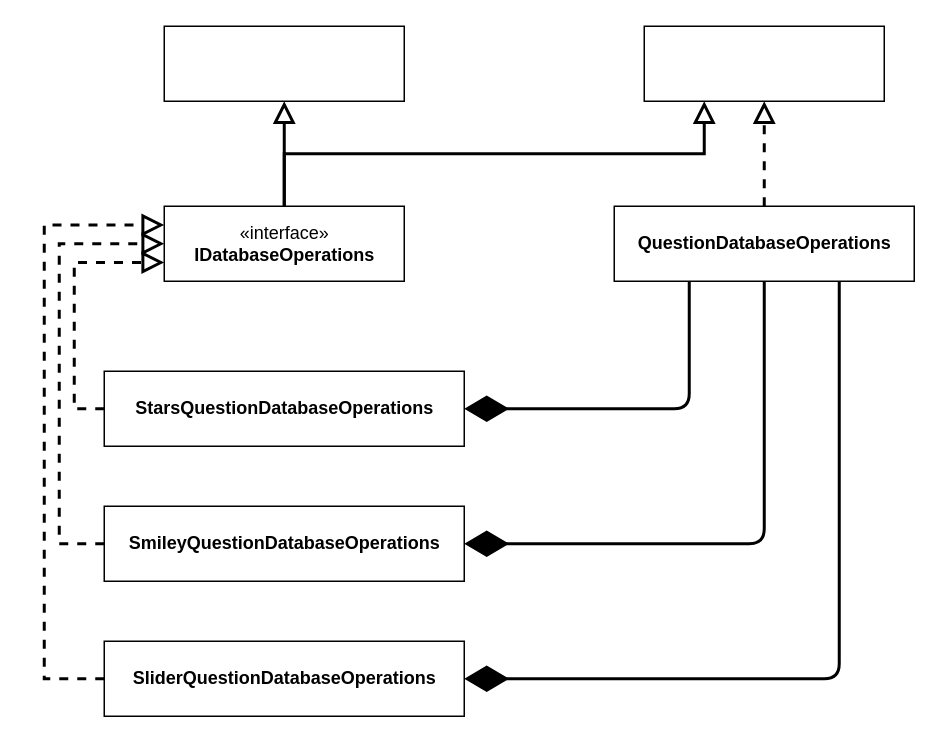
Image size: 941x746. Some labels were removed from this diagram. The shapes that lost their labels are listed below. From the top down, each one's centre as x and y in pixels, then its label:
point 283,63: «interface» IDatabaseSelectable
point 763,63: «interface» IDatabaseProcessable
